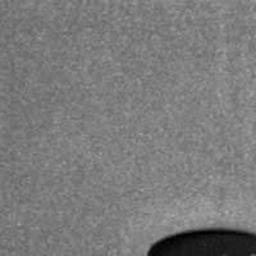Punching: (145, 228, 256, 256)
